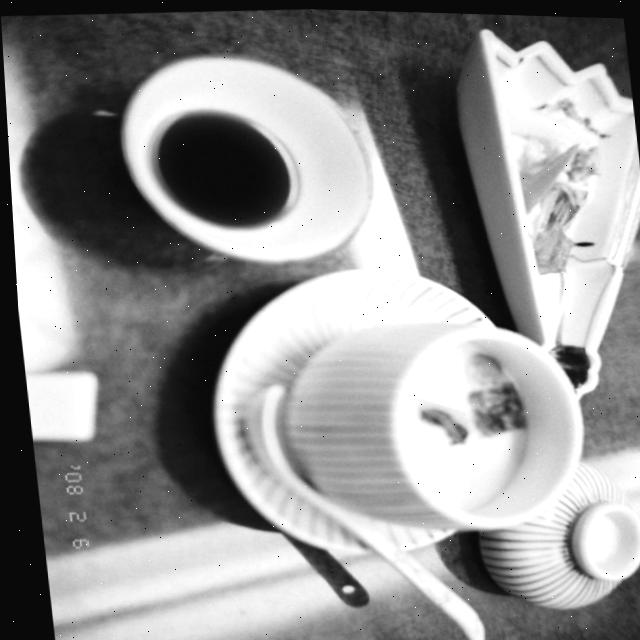鸡蛋料理: (208, 279, 587, 553)
